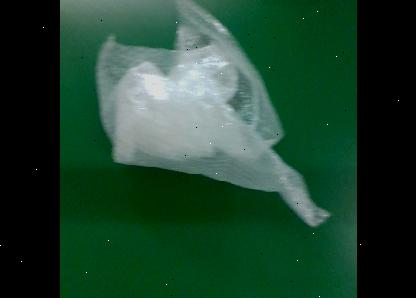Others: (94, 0, 334, 227)
